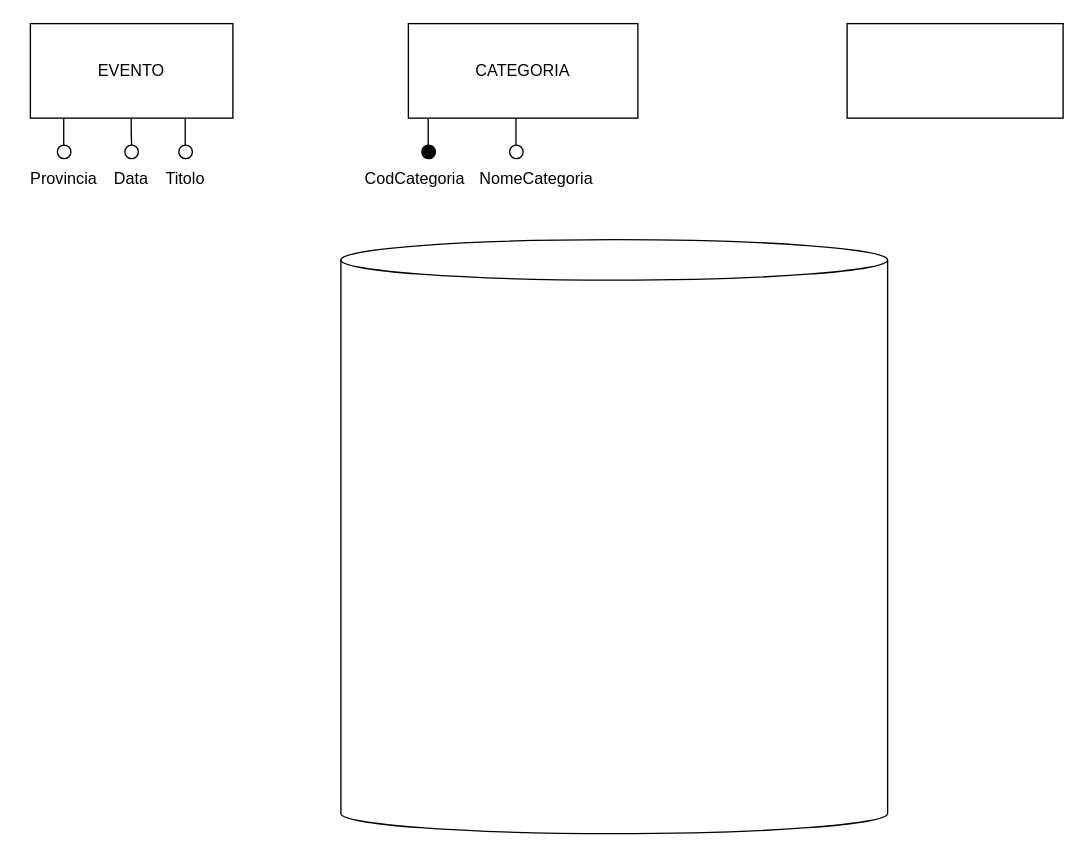
The diagram is 1087 pixels wide and 857 high, and some of its shapes have lost their labels. Here are the shapes that lost their labels. From the top down, the centre of each, then its label:
At [954,70]: "UTENTE".
At [614,536]: "database".
